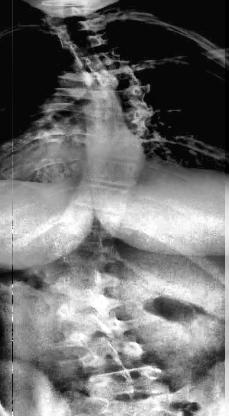Vertebrae: (84, 362, 168, 402), (45, 231, 121, 269), (60, 316, 138, 350), (44, 260, 121, 294), (47, 289, 124, 323), (74, 340, 150, 372), (78, 152, 146, 186), (67, 175, 131, 211), (58, 207, 122, 243), (80, 129, 146, 159), (84, 106, 154, 134), (77, 84, 148, 110), (74, 65, 140, 91), (67, 48, 119, 74), (60, 30, 106, 50)
